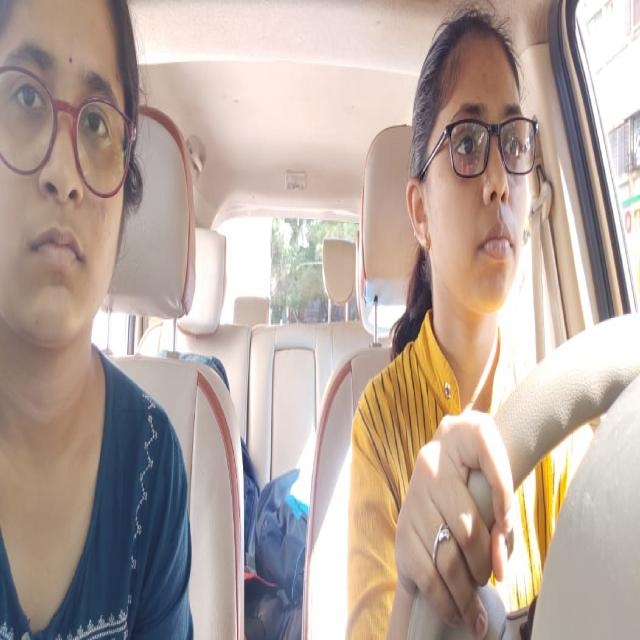person: (0, 1, 154, 394), (404, 3, 549, 333)
